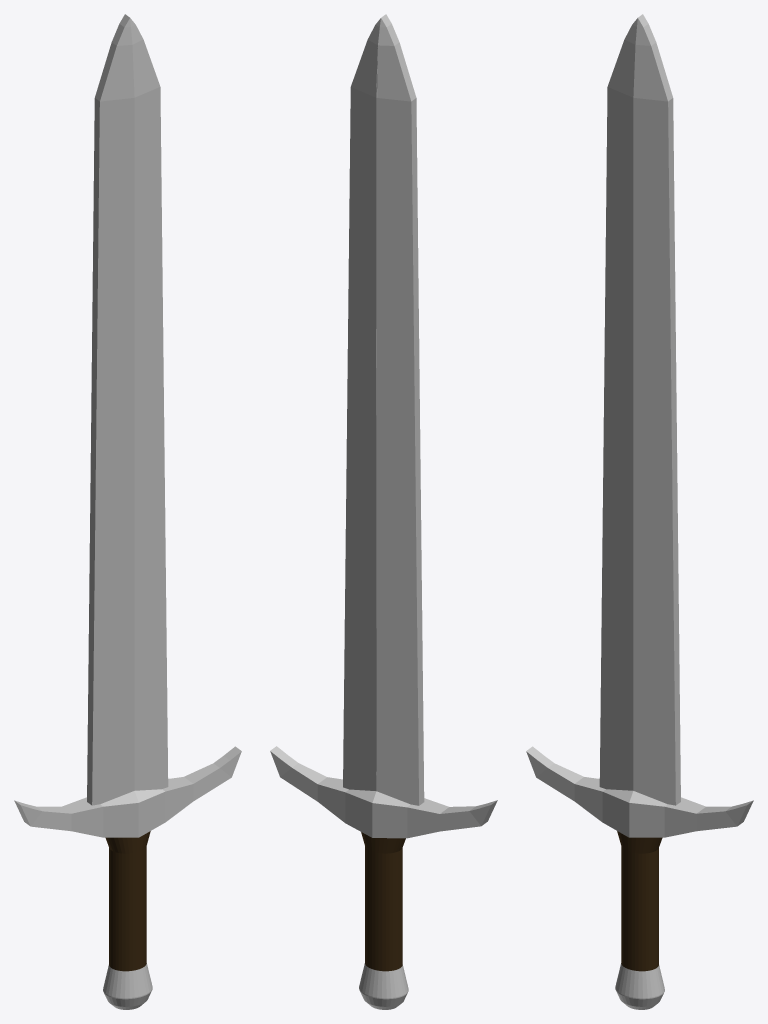
File: Long Sword.fbx
3 renders of one model, left to right at view 1: azimuth 30°, elevation 25°; view 2: azimuth 150°, elevation 25°; view 3: azimuth 330°, elevation 25°, orthographic.
Parts seen in each view (by area): view 1: Cube, Cylinder, Cube.001; view 2: Cube, Cylinder, Cube.001; view 3: Cube, Cylinder, Cube.001.
Part boxes in pixels (x1,y1,x2,y2): Cube: (14, 14, 241, 837); Cylinder: (105, 831, 150, 971); Cube.001: (103, 963, 152, 1009); Cube: (270, 14, 497, 838); Cylinder: (361, 832, 405, 971); Cube.001: (359, 963, 408, 1009); Cube: (526, 14, 753, 837); Cylinder: (617, 831, 662, 971); Cube.001: (615, 963, 664, 1009).
Bounding box in the file's own units: 2.2 × 9.37 × 0.3901.
